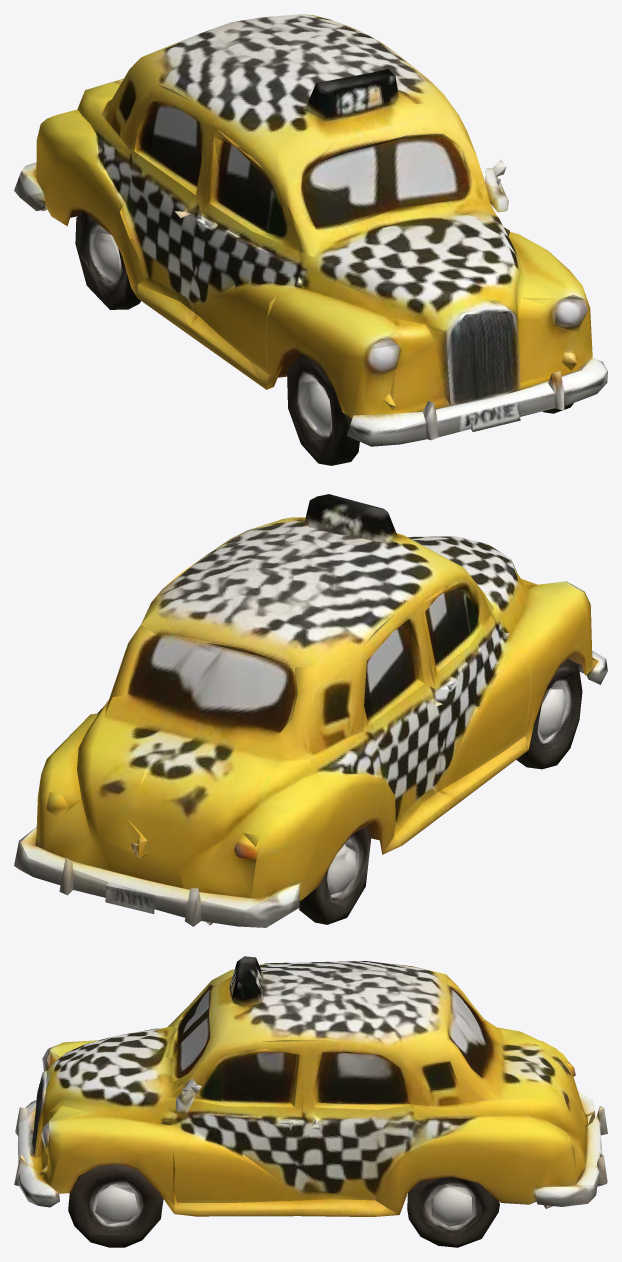
The model's file is rushTaxi.glb.
3 views of the same model, one above another, from view 1: azimuth 30°, elevation 25°; view 2: azimuth 150°, elevation 25°; view 3: azimuth 270°, elevation 25° (orthographic). The views are drawn at different scales.
Visible parts, largest first — view 1: model; view 2: model; view 3: model.
Boxes of the visible parts, x1,y1,x2,y2 form: model: (14, 14, 607, 465); model: (14, 494, 607, 927); model: (14, 956, 607, 1247).
Size of the model in its own units: 0.7922 by 0.835 by 1.9.
Materials: 1 (1 with a texture image).
